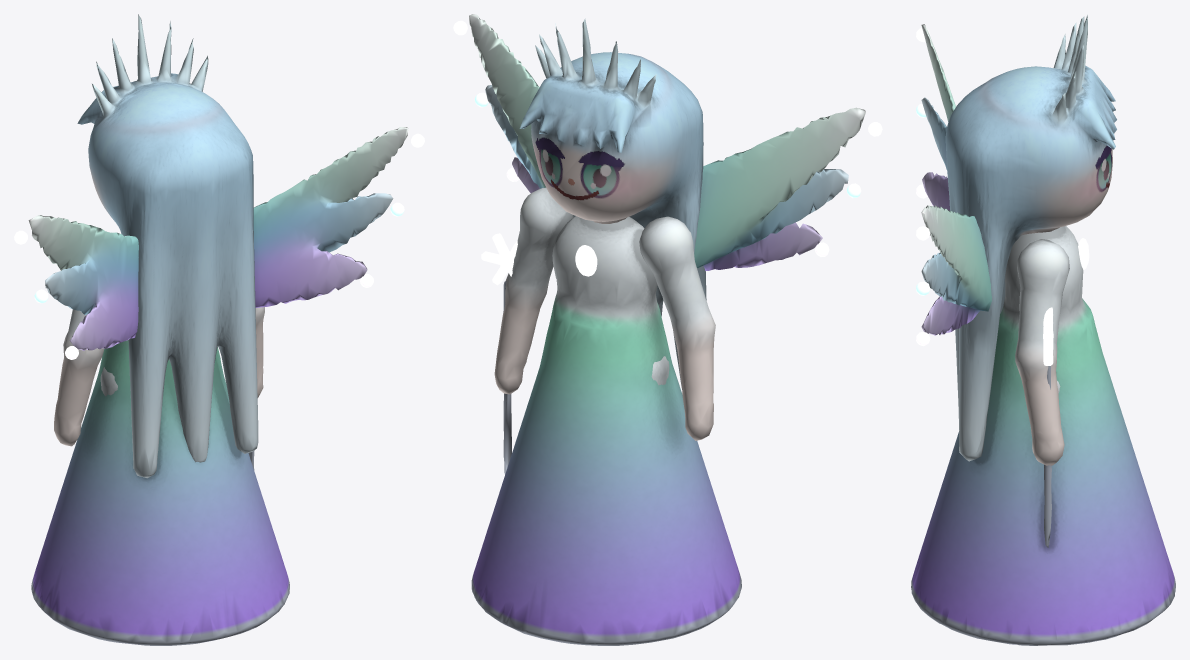
File: Aurelis.glb
3 renders of one model, left to right at view 1: azimuth 30°, elevation 25°; view 2: azimuth 150°, elevation 25°; view 3: azimuth 270°, elevation 25°, orthographic. The views are drawn at different scales.
Visible parts, largest first — view 1: Head, Body, WingR, WingL, ArmL, ArmR; view 2: Body, Head, WingL, ArmL, ArmR, WingR, WeaponR_Glow, WeaponR; view 3: Body, Head, ArmR, WingR, WingL, WeaponR, WeaponR_Glow.
Boxes of the visible parts, left/top/right/bottom form: Head: left=77, top=14, right=258, bottom=478; Body: left=31, top=340, right=289, bottom=645; WingR: left=253, top=127, right=408, bottom=307; WingL: left=28, top=215, right=138, bottom=350; ArmL: left=54, top=309, right=104, bottom=446; ArmR: left=255, top=307, right=264, bottom=397; Body: left=471, top=216, right=741, bottom=645; Head: left=520, top=18, right=706, bottom=389; WingL: left=694, top=107, right=865, bottom=270; ArmL: left=639, top=216, right=715, bottom=440; ArmR: left=494, top=187, right=573, bottom=394; WingR: left=469, top=14, right=545, bottom=193; WeaponR_Glow: left=481, top=233, right=517, bottom=285; WeaponR: left=503, top=281, right=511, bottom=474; Body: left=911, top=226, right=1175, bottom=645; Head: left=945, top=15, right=1116, bottom=461; ArmR: left=1015, top=239, right=1069, bottom=465; WingR: left=921, top=205, right=991, bottom=335; WingL: left=921, top=24, right=955, bottom=210; WeaponR: left=1044, top=366, right=1051, bottom=547; WeaponR_Glow: left=1043, top=307, right=1053, bottom=365.
Size of the model in its own units: 1.88 by 2.57 by 1.03.
9 materials, 1 textured.
